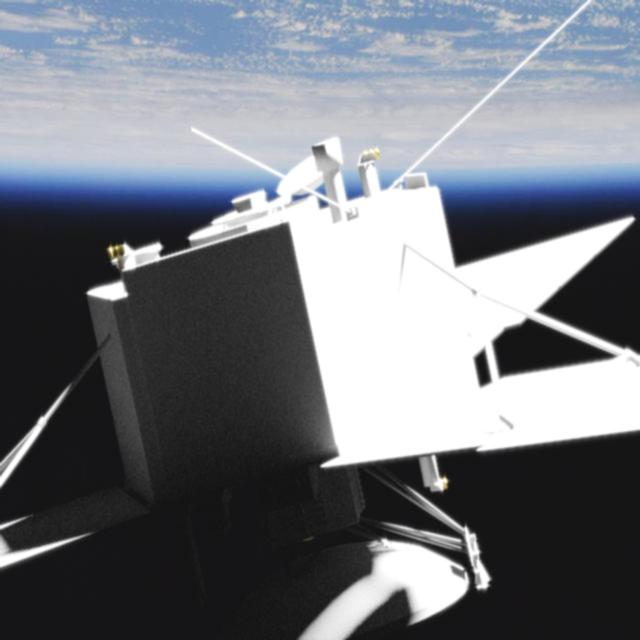satellite: (0, 118, 640, 640)
